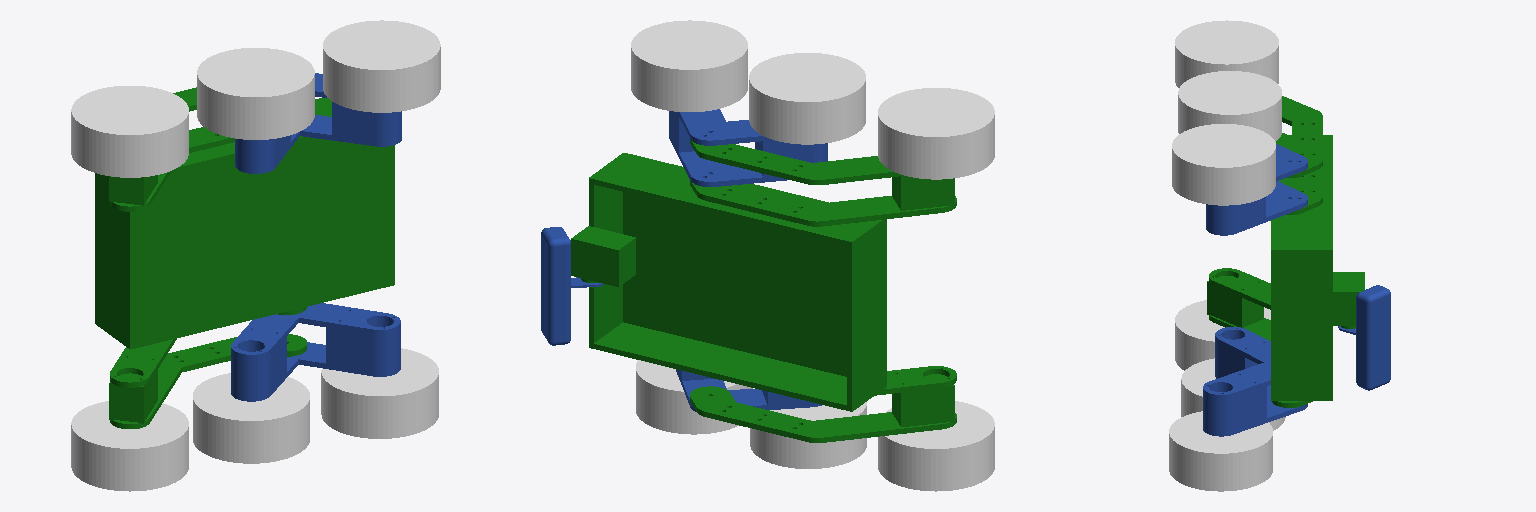
The robot description file, URDF, robot "Robot_6ruedas":
<?xml version="1.0"?>
<robot name="Robot_6ruedas">
  <link name="dummy">
  </link>  

    <link name="l1">
        <visual>
            <origin xyz="-0.1888685832554042876 -0.17011464359603345464 0.21803874853775565001" rpy="-6.0658661501779090502e-09 2.9721156499403781953e-09 3.8418044321784808473e-10" />
            <geometry>
                <mesh filename="package://robot_description/archives/l1.stl"/>
            </geometry>
            <material name="l1_material">
                <color rgba="0.12941176470588236502 0.54117647058823525885 0.12941176470588236502 1.0"/>
            </material>
        </visual>
        <collision>
            <origin xyz="-0.1888685832554042876 -0.17011464359603345464 0.21803874853775565001" rpy="-6.0658661501779090502e-09 2.9721156499403781953e-09 3.8418044321784808473e-10" />
            <geometry>
                <mesh filename="package://robot_description/archives/l1.stl"/>
            </geometry>
        </collision>
        <inertial>
            <origin xyz="-0.2090648822512374827 -0.15721872949052079216 0.2189618657562836801" rpy="0 0 0"/>
            <mass value="1.1600736868674612623" />
            <inertia ixx="0.0066008651106547033133" ixy="-0.0014781260713474368186"  ixz="-0.00013558622438702470719" iyy="0.015519266854376972259" iyz="-6.6497650602384029972e-05" izz="0.010696687117737165365" />
        </inertial>
    </link>

  <joint name="dummy_joint" type="fixed">
    <parent link="dummy"/>
    <child link="l1"/>
  </joint>
    <link name="l2_l3_modificado-2">
        <visual>
            <origin xyz="2.7755575615628913511e-17 2.7755575615628913511e-17 -0.038999999999999979128" rpy="1.570796326794896558 2.4647867877398836998e-25 -2.3917022806420993237e-19" />
            <geometry>
                <mesh filename="package://robot_description/archives/l2_l3_modificado-2.stl"/>
            </geometry>
            <material name="l2_l3_modificado-2_material">
                <color rgba="0.2313725490196078538 0.38039215686274507888 0.7058823529411765163 1.0"/>
            </material>
        </visual>
        <collision>
            <origin xyz="2.7755575615628913511e-17 2.7755575615628913511e-17 -0.038999999999999979128" rpy="1.570796326794896558 2.4647867877398836998e-25 -2.3917022806420993237e-19" />
            <geometry>
                <mesh filename="package://robot_description/archives/l2_l3_modificado-2.stl"/>
            </geometry>
        </collision>
        <inertial>
            <origin xyz="0.041604917307636664348 -0.0009418623224225567683 -0.016999999999999980405" rpy="0 0 0"/>
            <mass value="0.19878085526035951802" />
            <inertia ixx="0.00045600719533735699363" ixy="-2.1979347753071080989e-06"  ixz="4.1067788460621067407e-28" iyy="0.00011179489061714407375" iyz="4.3674831402817921823e-29" izz="0.00048695372639961936748" />
        </inertial>
    </link>
    <link name="rueda10cm">
        <visual>
            <origin xyz="0 0 -0.0030000000000000026645" rpy="3.141592653589793116 -1.0023166649532574314e-24 1.5083150845212419517e-17" />
            <geometry>
                <mesh filename="package://robot_description/archives/rueda10cm.stl"/>
            </geometry>
            <material name="rueda10cm_material">
                <color rgba="0.92156862745098033773 0.92156862745098033773 0.92156862745098033773 1.0"/>
            </material>
        </visual>
        <collision>
            <origin xyz="0 0 -0.0030000000000000026645" rpy="3.141592653589793116 -1.0023166649532574314e-24 1.5083150845212419517e-17" />
            <geometry>
                <mesh filename="package://robot_description/archives/rueda10cm.stl"/>
            </geometry>
        </collision>
        <inertial>
            <origin xyz="-9.3545289394551002907e-19 1.6538959949294812131e-27 -0.022983887084686488445" rpy="0 0 0"/>
            <mass value="0.39299360600999816429" />
            <inertia ixx="0.00029793490712322421698" ixy="-3.9489663250360805483e-21"  ixz="2.5563994575080726093e-28" iyy="0.00029793490712322416277" iyz="-1.1453367324406402029e-28" izz="0.00049087753367729638869" />
        </inertial>
    </link>

    <joint name="Junta_R2" type="continuous">
        <origin xyz="0.060104076400856631945 0.060104076400856493168 0.0049999999999999489297" rpy="3.1415926535897926719 -4.3418562004129973851e-16 -0.23928943232462576707" />
        <parent link="l2_l3_modificado-2" />
        <child link="rueda10cm" />
        <axis xyz="0 0 1"/>
        <limit effort="1" velocity="20" />
        <joint_properties friction="0.0"/>
    </joint>

    <link name="rueda10cm_2">
        <visual>
            <origin xyz="0 -3.0357660829594124152e-17 -0.0029999999999999471534" rpy="-3.141592653589793116 3.3704244979080316688e-25 6.9381089612603703018e-17" />
            <geometry>
                <mesh filename="package://robot_description/archives/rueda10cm.stl"/>
            </geometry>
            <material name="rueda10cm_material">
                <color rgba="0.92156862745098033773 0.92156862745098033773 0.92156862745098033773 1.0"/>
            </material>
        </visual>
        <collision>
            <origin xyz="0 -3.0357660829594124152e-17 -0.0029999999999999471534" rpy="-3.141592653589793116 3.3704244979080316688e-25 6.9381089612603703018e-17" />
            <geometry>
                <mesh filename="package://robot_description/archives/rueda10cm.stl"/>
            </geometry>
        </collision>
        <inertial>
            <origin xyz="-9.3545291896116197248e-19 -3.0357660815074603013e-17 -0.022983887084686429464" rpy="0 0 0"/>
            <mass value="0.39299360600999816429" />
            <inertia ixx="0.00029793490712322421698" ixy="-2.8799980243520215934e-21"  ixz="4.7107423451855293064e-28" iyy="0.00029793490712322427119" iyz="-1.4018466571375642208e-28" izz="0.00049087753367729617185" />
        </inertial>
    </link>


    <joint name="Junta_R4" type="continuous">
        <origin xyz="0.060104076400856576434 -0.060104076400856493168 0.0050000000000000044409" rpy="-3.141592653589793116 -1.1589827815473840127e-17 2.4002979575539105106" />
        <parent link="l2_l3_modificado-2" />
        <child link="rueda10cm_2" />
        <axis xyz="0 0 1"/>
        <limit effort="1" velocity="20" />
        <joint_properties friction="0.0"/>
    </joint>

    <joint name="Junta_Pasiva_Derecha" type="revolute">
        <origin xyz="-0.15494266865261210886 -0.15188434120304603048 0.34203874832633668346" rpy="-2.6643008095038062813e-09 -6.2072301502844685754e-09 -1.6209467145960121393" />
        <parent link="l1" />
        <child link="l2_l3_modificado-2" />
        <axis xyz="0 0 1"/>
        <limit effort="1" velocity="20" lower="-2.0071286397934788859" upper="1.2217304763960306069"/>
        <joint_properties friction="0.0"/>
    </joint>

    <link name="l2_l3_modificado-2_2">
        <visual>
            <origin xyz="0 2.7755575615628913511e-17 -0.038999999999999993006" rpy="1.570796326794896558 7.1125854419411447458e-25 5.5920709708487137397e-18" />
            <geometry>
                <mesh filename="package://robot_description/archives/l2_l3_modificado-2.stl"/>
            </geometry>
            <material name="l2_l3_modificado-2_material">
                <color rgba="0.2313725490196078538 0.38039215686274507888 0.7058823529411765163 1.0"/>
            </material>
        </visual>
        <collision>
            <origin xyz="0 2.7755575615628913511e-17 -0.038999999999999993006" rpy="1.570796326794896558 7.1125854419411447458e-25 5.5920709708487137397e-18" />
            <geometry>
                <mesh filename="package://robot_description/archives/l2_l3_modificado-2.stl"/>
            </geometry>
        </collision>
        <inertial>
            <origin xyz="0.04160491730763665047 -0.00094186232242255633462 -0.016999999999999994282" rpy="0 0 0"/>
            <mass value="0.19878085526035951802" />
            <inertia ixx="0.00045600719533735721047" ixy="-2.1979347753071059813e-06"  ixz="2.2250277826967671503e-29" iyy="0.00011179489061714404665" iyz="4.2510698171069418395e-29" izz="0.00048695372639961936748" />
        </inertial>
    </link>

    <link name="rueda10cm_3">
        <visual>
            <origin xyz="5.5511151231257827021e-17 -5.5511151231257827021e-17 -0.0030000000000000026645" rpy="3.141592653589793116 -0 -2.3993747927658357452e-18" />
            <geometry>
                <mesh filename="package://robot_description/archives/rueda10cm.stl"/>
            </geometry>
            <material name="rueda10cm_material">
                <color rgba="0.92156862745098033773 0.92156862745098033773 0.92156862745098033773 1.0"/>
            </material>
        </visual>
        <collision>
            <origin xyz="5.5511151231257827021e-17 -5.5511151231257827021e-17 -0.0030000000000000026645" rpy="3.141592653589793116 -0 -2.3993747927658357452e-18" />
            <geometry>
                <mesh filename="package://robot_description/archives/rueda10cm.stl"/>
            </geometry>
        </collision>
        <inertial>
            <origin xyz="5.4575698335562366393e-17 -5.5511151231257827021e-17 -0.022983887084686488445" rpy="0 0 0"/>
            <mass value="0.39299360600999816429" />
            <inertia ixx="0.00029793490712322410856" ixy="6.7137901454715408303e-21"  ixz="0" iyy="0.00029793490712322416277" iyz="0" izz="0.00049087753367729617185" />
        </inertial>
    </link>


    <joint name="Junta_R3" type="continuous">
        <origin xyz="0.06010407640085660419 0.060104076400856520923 0.0049999999999999628075" rpy="3.141592653589793116 1.590994605787964269e-16 -1.8876662512036173069" />
        <parent link="l2_l3_modificado-2_2" />
        <child link="rueda10cm_3" />
        <axis xyz="0 0 1"/>
        <limit effort="1" velocity="20" />
        <joint_properties friction="0.0"/>
    </joint>

    <link name="rueda10cm_4">
        <visual>
            <origin xyz="5.5511151231257827021e-17 -5.5511151231257827021e-17 -0.0030000000000000026645" rpy="3.141592653589793116 -0 -2.3993747927658357452e-18" />
            <geometry>
                <mesh filename="package://robot_description/archives/rueda10cm.stl"/>
            </geometry>
            <material name="rueda10cm_material">
                <color rgba="0.92156862745098033773 0.92156862745098033773 0.92156862745098033773 1.0"/>
            </material>
        </visual>
        <collision>
            <origin xyz="5.5511151231257827021e-17 -5.5511151231257827021e-17 -0.0030000000000000026645" rpy="3.141592653589793116 -0 -2.3993747927658357452e-18" />
            <geometry>
                <mesh filename="package://robot_description/archives/rueda10cm.stl"/>
            </geometry>
        </collision>
        <inertial>
            <origin xyz="5.4575698335562366393e-17 -5.5511151231257827021e-17 -0.022983887084686488445" rpy="0 0 0"/>
            <mass value="0.39299360600999816429" />
            <inertia ixx="0.00029793490712322410856" ixy="6.7137901454715408303e-21"  ixz="0" iyy="0.00029793490712322416277" iyz="0" izz="0.00049087753367729617185" />
        </inertial>
    </link>

    <joint name="Junta_R1" type="continuous">
        <origin xyz="0.06010407640085660419 -0.060104076400856465412 0.0049999999999999766853" rpy="3.141592653589793116 1.590994605787964269e-16 -1.8876662512036173069" />
        <parent link="l2_l3_modificado-2_2" />
        <child link="rueda10cm_4" />
        <axis xyz="0 0 1"/>
        <limit effort="1" velocity="20" />
        <joint_properties friction="0.0"/>
    </joint>

    <joint name="Junta_Pasiva_Izquierda" type="revolute">
        <origin xyz="-0.15494266938969317171 -0.1518843427073778285 0.094038748326342375128" rpy="3.1415926512234007006 -6.3267992997233865578e-09 -1.6684737314627220428" />
        <parent link="l1" />
        <child link="l2_l3_modificado-2_2" />
        <axis xyz="0 0 1"/>
        <limit effort="1" velocity="20" lower="-1.2217304763960306069" upper="2.0071286397934788859"/>
        <joint_properties friction="0.0"/>
    </joint>

    <link name="rueda10cm_5">
        <visual>
            <origin xyz="0 -2.7755575615628913511e-17 -0.0030000000000000026645" rpy="3.141592653589793116 -0 2.6823052775185617915e-34" />
            <geometry>
                <mesh filename="package://robot_description/archives/rueda10cm.stl"/>
            </geometry>
            <material name="rueda10cm_material">
                <color rgba="0.92156862745098033773 0.92156862745098033773 0.92156862745098033773 1.0"/>
            </material>
        </visual>
        <collision>
            <origin xyz="0 -2.7755575615628913511e-17 -0.0030000000000000026645" rpy="3.141592653589793116 -0 2.6823052775185617915e-34" />
            <geometry>
                <mesh filename="package://robot_description/archives/rueda10cm.stl"/>
            </geometry>
        </collision>
        <inertial>
            <origin xyz="-9.3545289569545966553e-19 -2.7755575615628913511e-17 -0.022983887084686488445" rpy="0 0 0"/>
            <mass value="0.39299360600999816429" />
            <inertia ixx="0.00029793490712322421698" ixy="3.4544732082981603049e-37"  ixz="0" iyy="0.00029793490712322416277" iyz="0" izz="0.00049087753367729617185" />
        </inertial>
    </link>

    <joint name="Junta_R5" type="continuous">
        <origin xyz="-0.34311479563244728919 -0.21198648776128214966 0.094038749250182226969" rpy="-6.0658661501779123589e-09 2.9721157209946501831e-09 -4.9303806576313237838e-32" />
        <parent link="l1" />
        <child link="rueda10cm_5" />
        <axis xyz="0 0 1"/>
        <limit effort="1" velocity="20" />
        <joint_properties friction="0.0"/>
    </joint>


    <link name="rueda10cm_6">
        <visual>
            <origin xyz="0 0 -0.0030000000000000026645" rpy="3.141592653589793116 -0 -2.6823052775185617915e-34" />
            <geometry>
                <mesh filename="package://robot_description/archives/rueda10cm.stl"/>
            </geometry>
            <material name="rueda10cm_material">
                <color rgba="0.92156862745098033773 0.92156862745098033773 0.92156862745098033773 1.0"/>
            </material>
        </visual>
        <collision>
            <origin xyz="0 0 -0.0030000000000000026645" rpy="3.141592653589793116 -0 -2.6823052775185617915e-34" />
            <geometry>
                <mesh filename="package://robot_description/archives/rueda10cm.stl"/>
            </geometry>
        </collision>
        <inertial>
            <origin xyz="-9.3545289569545966553e-19 -8.000154850941515866e-36 -0.022983887084686488445" rpy="0 0 0"/>
            <mass value="0.39299360600999816429" />
            <inertia ixx="0.00029793490712322421698" ixy="-3.4544732082981603049e-37"  ixz="0" iyy="0.00029793490712322416277" iyz="0" izz="0.00049087753367729617185" />
        </inertial>
    </link>

    <joint name="Junta_R6" type="continuous">
        <origin xyz="-0.3431147948953625626 -0.21198648625694732628 0.34203874925018223907" rpy="3.1415926475239270843 2.9721157209946501831e-09 -4.9303806576313237838e-32" />
        <parent link="l1" />
        <child link="rueda10cm_6" />
        <axis xyz="0 0 1"/>
        <limit effort="1" velocity="20" />
        <joint_properties friction="0.0"/>
    </joint>

    <link name="conexion_mr">
        <visual>
            <origin xyz="-1.3877787807814456755e-17 6.9388939039072283776e-18 -0.0020000000000000017764" rpy="1.570796326794896558 -8.2718061255302785854e-25 5.5178888487446586962e-17" />
            <geometry>
                <mesh filename="package://robot_description/archives/conexion_mr.stl"/>
            </geometry>
            <material name="conexion_mr_material">
                <color rgba="0.2313725490196078538 0.38039215686274507888 0.7058823529411765163 1.0"/>
            </material>
        </visual>
        <collision>
            <origin xyz="-1.3877787807814456755e-17 6.9388939039072283776e-18 -0.0020000000000000017764" rpy="1.570796326794896558 -8.2718061255302785854e-25 5.5178888487446586962e-17" />
            <geometry>
                <mesh filename="package://robot_description/archives/conexion_mr.stl"/>
            </geometry>
        </collision>
        <inertial>
            <origin xyz="-1.1532751661469118139e-17 0.03164156802537802099 -1.6895403053702236912e-05" rpy="0 0 0"/>
            <mass value="0.49858138809996860319" />
            <inertia ixx="0.0004191462099172321037" ixy="4.7231690887612309217e-20"  ixz="-3.4618973734214023397e-11" iyy="0.000436827735239414094" iyz="-2.1980440093701510602e-07" izz="6.2457172100354707545e-05" />
        </inertial>
    </link>

    <joint name="Junta_Camara" type="revolute">
        <origin xyz="-0.071868583309864980668 -0.094114643602644210141 0.2095387477290122924" rpy="3.1415926531307878378 6.7392520686235646216e-09 1.047197552091695405" />
        <parent link="l1" />
        <child link="conexion_mr" />
        <axis xyz="0 0 1"/>
        <limit effort="1" velocity="20" lower="4.712388980384689674" upper="5.2359877559829888227"/>
        <joint_properties friction="0.0"/>
    </joint>

</robot>

--- Render facts (derived) ---
3 views of the same robot in one strip: view 1: azimuth 30°, elevation 25°; view 2: azimuth 150°, elevation 25°; view 3: azimuth 270°, elevation 25° (orthographic).
Model Robot_6ruedas with 11 links and 10 joints (3 revolute, 6 continuous, 1 fixed), rooted at dummy, posed all joints at 0 but 1 set to mid-range because 0 is outside their limits (Junta_Camara = 4.97).
Links seen in each view (by area): view 1: l1, l2_l3_modificado-2_2, rueda10cm_2, rueda10cm, rueda10cm_6, rueda10cm_5, rueda10cm_3, rueda10cm_4, l2_l3_modificado-2; view 2: l1, rueda10cm_2, rueda10cm_6, rueda10cm, rueda10cm_5, l2_l3_modificado-2, rueda10cm_4, rueda10cm_3, conexion_mr, l2_l3_modificado-2_2; view 3: l1, rueda10cm, l2_l3_modificado-2_2, rueda10cm_4, rueda10cm_2, rueda10cm_6, conexion_mr, l2_l3_modificado-2, rueda10cm_5, rueda10cm_3.
Boxes of the visible links, left/top/right/bottom form: l1: left=95, top=87, right=394, bottom=428; l2_l3_modificado-2_2: left=231, top=303, right=400, bottom=401; rueda10cm_2: left=197, top=48, right=314, bottom=139; rueda10cm: left=323, top=20, right=440, bottom=112; rueda10cm_6: left=71, top=86, right=188, bottom=177; rueda10cm_5: left=71, top=401, right=188, bottom=491; rueda10cm_3: left=193, top=373, right=309, bottom=463; rueda10cm_4: left=321, top=348, right=438, bottom=438; l2_l3_modificado-2: left=235, top=73, right=401, bottom=173; l1: left=571, top=139, right=956, bottom=442; rueda10cm_2: left=749, top=53, right=865, bottom=144; rueda10cm_6: left=878, top=88, right=994, bottom=179; rueda10cm: left=631, top=20, right=747, bottom=111; rueda10cm_5: left=878, top=401, right=994, bottom=491; l2_l3_modificado-2: left=669, top=109, right=827, bottom=186; rueda10cm_4: left=636, top=360, right=752, bottom=434; rueda10cm_3: left=750, top=402, right=866, bottom=468; conexion_mr: left=541, top=227, right=603, bottom=345; l2_l3_modificado-2_2: left=676, top=369, right=821, bottom=411; l1: left=1207, top=96, right=1364, bottom=407; rueda10cm: left=1172, top=124, right=1275, bottom=205; l2_l3_modificado-2_2: left=1203, top=327, right=1307, bottom=436; rueda10cm_4: left=1169, top=411, right=1272, bottom=491; rueda10cm_2: left=1178, top=71, right=1281, bottom=141; rueda10cm_6: left=1175, top=20, right=1278, bottom=87; conexion_mr: left=1338, top=285, right=1390, bottom=390; l2_l3_modificado-2: left=1206, top=144, right=1307, bottom=235; rueda10cm_5: left=1175, top=300, right=1270, bottom=370; rueda10cm_3: left=1181, top=358, right=1285, bottom=430.
Bounding box of the posed robot: 0.3605 × 0.2126 × 0.344 m (x, y, z).
10 mesh visuals loaded from 4 distinct referenced files (4 binary STL).